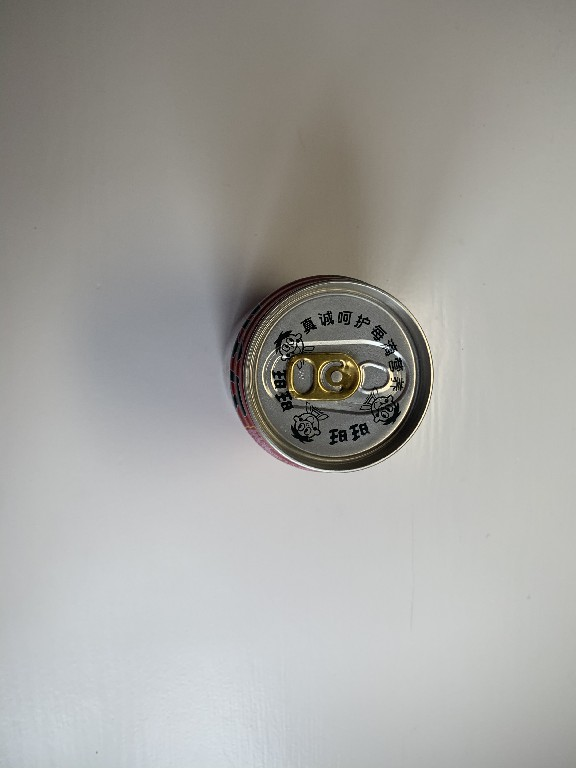can: (226, 270, 435, 478)
